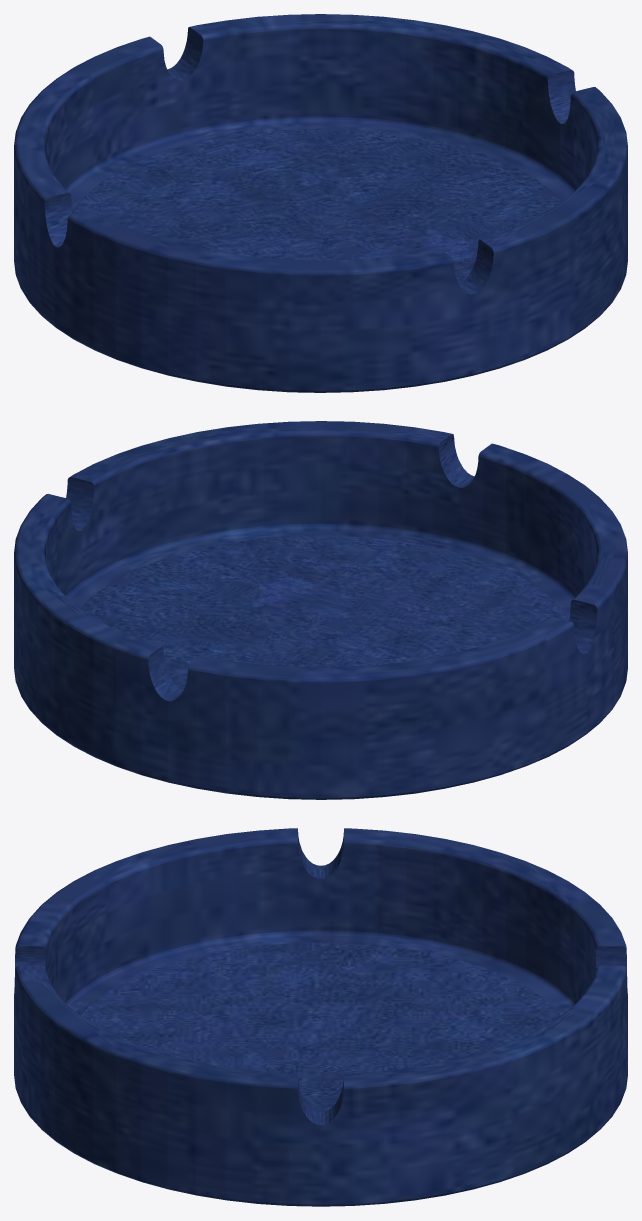
The model's file is scrumiera.obj.
3 views of the same model, one above another, from view 1: azimuth 30°, elevation 25°; view 2: azimuth 150°, elevation 25°; view 3: azimuth 270°, elevation 25° (orthographic).
Parts seen in each view (by area): view 1: ashtray; view 2: ashtray; view 3: ashtray.
Boxes of the visible parts, x1=… form: ashtray: x1=14, y1=14, x2=627, y2=392; ashtray: x1=14, y1=421, x2=627, y2=799; ashtray: x1=14, y1=828, x2=627, y2=1206.
Size of the model in its own units: 0.0132 by 0.00311 by 0.0132.
Materials: 1 (1 with a texture image).
